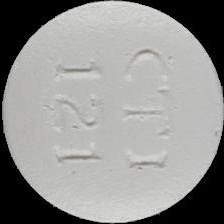50268-303: (0, 0, 224, 224)
